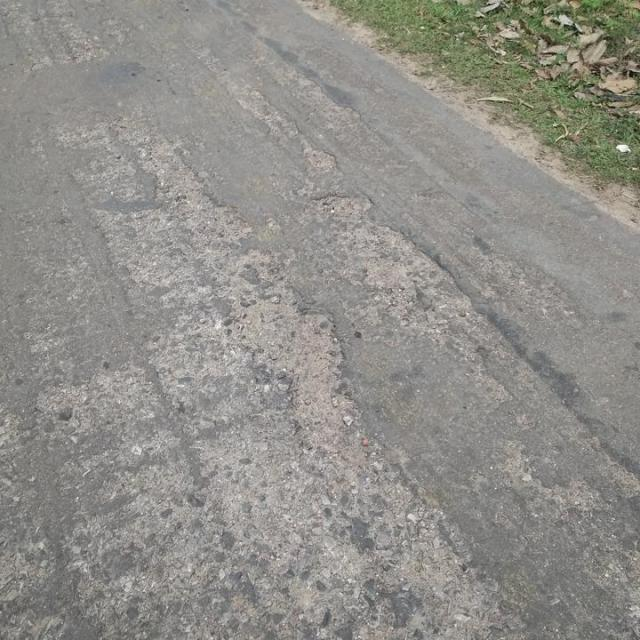Pothole: (307, 188, 470, 320), (232, 287, 358, 432)
